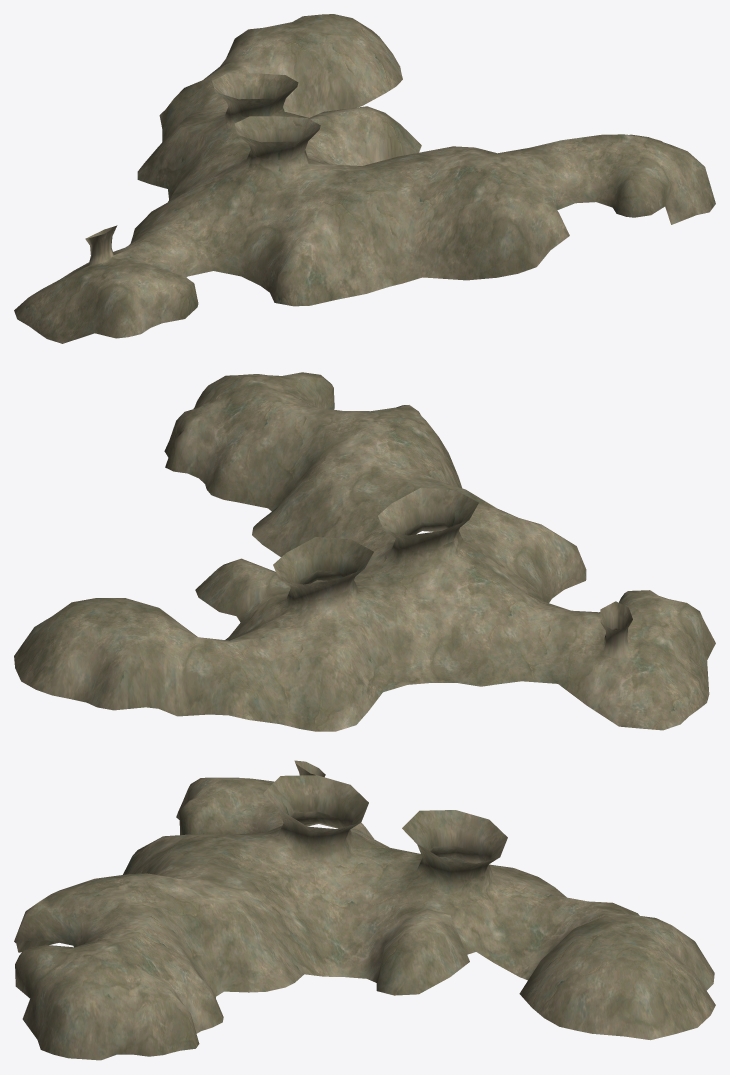
Rendered from EKH_GROTTO_PS_GR_CAVEROOF019282.fbx.
3 views of the same model, one above another, from view 1: azimuth 30°, elevation 25°; view 2: azimuth 150°, elevation 25°; view 3: azimuth 270°, elevation 25° (orthographic). The views are drawn at different scales.
Parts seen in each view (by area): view 1: EKH_GROTTO_PS_GR_CAVEROOF019282; view 2: EKH_GROTTO_PS_GR_CAVEROOF019282; view 3: EKH_GROTTO_PS_GR_CAVEROOF019282.
Part boxes in pixels (bbox=[...]): EKH_GROTTO_PS_GR_CAVEROOF019282: bbox=[14, 14, 715, 343]; EKH_GROTTO_PS_GR_CAVEROOF019282: bbox=[14, 372, 715, 731]; EKH_GROTTO_PS_GR_CAVEROOF019282: bbox=[14, 760, 715, 1060].
Size of the model in its own units: 405398 by 95117 by 378314.
Materials: 1 (1 with a texture image).
